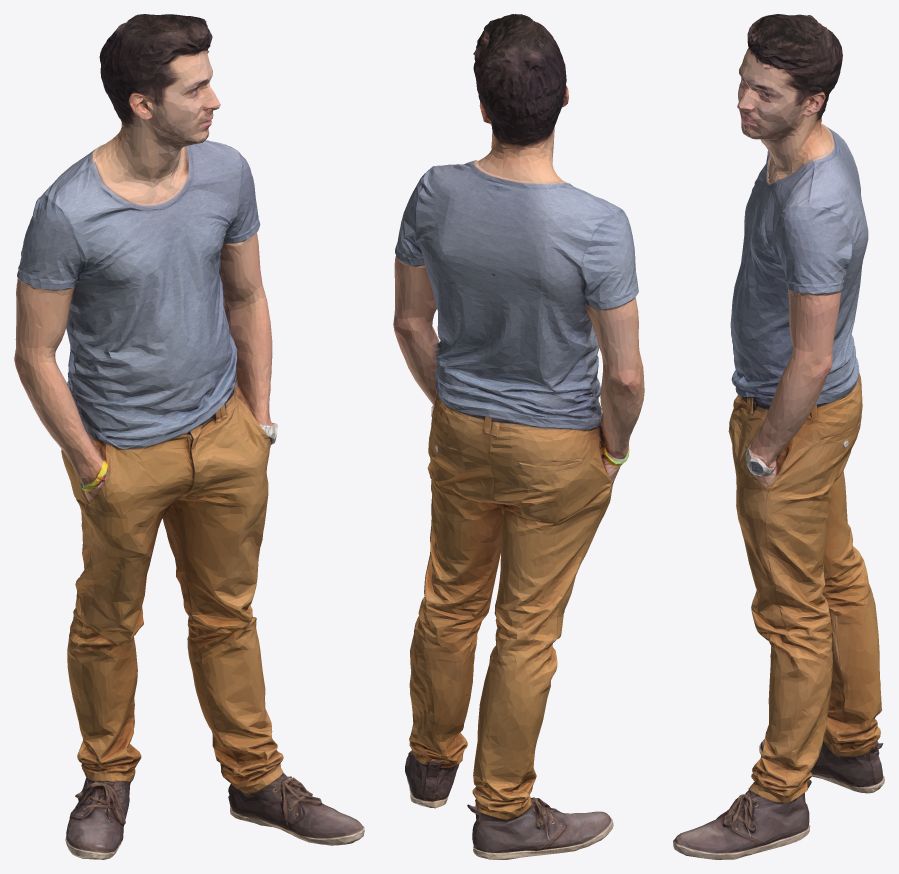
The model's file is man_phd.dae.
The picture shows the model from 3 angles, left to right: view 1: azimuth 30°, elevation 25°; view 2: azimuth 150°, elevation 25°; view 3: azimuth 270°, elevation 25°; orthographic projection. The views are drawn at different scales.
Parts seen in each view (by area): view 1: node; view 2: node; view 3: node.
Part boxes in pixels (bbox=[...]): node: bbox=[14, 14, 364, 859]; node: bbox=[393, 14, 644, 859]; node: bbox=[673, 14, 884, 859].
Bounding box in the file's own units: 24.95 × 69.42 × 17.08.
1 material, 1 textured.
